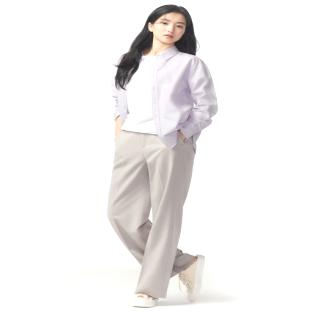Human: (108, 5, 218, 307)
